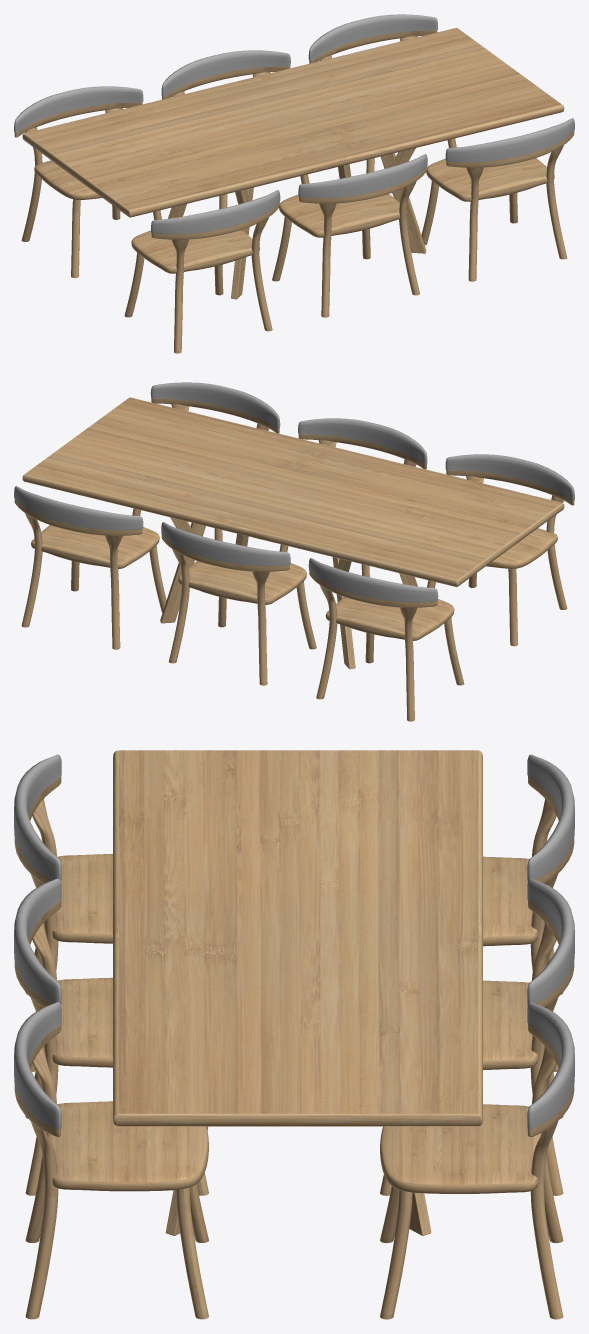
Rendered from DinningTable.fbx.
3 renders of one model, top to bottom at view 1: azimuth 30°, elevation 25°; view 2: azimuth 150°, elevation 25°; view 3: azimuth 270°, elevation 25°, orthographic. The views are drawn at different scales.
Parts seen in each view (by area): view 1: polySurface2562, pCube386, pCube387, pCube388, pCube383, pCube384, pCube385; view 2: polySurface2562, pCube385, pCube383, pCube384, pCube387, pCube388, pCube386; view 3: polySurface2562, pCube384, pCube388, pCube386, pCube385, pCube387, pCube383.
Boxes of the visible parts, x1=… form: polySurface2562: x1=22, y1=28, x2=564, y2=299; pCube386: x1=272, y1=154, x2=427, y2=317; pCube387: x1=124, y1=190, x2=280, y2=353; pCube388: x1=421, y1=118, x2=574, y2=281; pCube383: x1=14, y1=86, x2=161, y2=278; pCube384: x1=308, y1=14, x2=456, y2=173; pCube385: x1=161, y1=50, x2=309, y2=209; polySurface2562: x1=22, y1=397, x2=564, y2=669; pCube385: x1=161, y1=522, x2=316, y2=685; pCube383: x1=308, y1=558, x2=464, y2=721; pCube384: x1=14, y1=486, x2=166, y2=649; pCube387: x1=427, y1=454, x2=574, y2=646; pCube388: x1=132, y1=382, x2=280, y2=541; pCube386: x1=279, y1=418, x2=427, y2=577; polySurface2562: x1=113, y1=750, x2=482, y2=1235; pCube384: x1=380, y1=1002, x2=574, y2=1319; pCube388: x1=14, y1=1002, x2=208, y2=1319; pCube386: x1=14, y1=878, x2=208, y2=1195; pCube385: x1=380, y1=878, x2=574, y2=1195; pCube387: x1=14, y1=754, x2=112, y2=1071; pCube383: x1=483, y1=754, x2=574, y2=1071.
Bounding box in the file's own units: 30.96 × 9.23 × 20.09.
2 materials, 1 textured.
